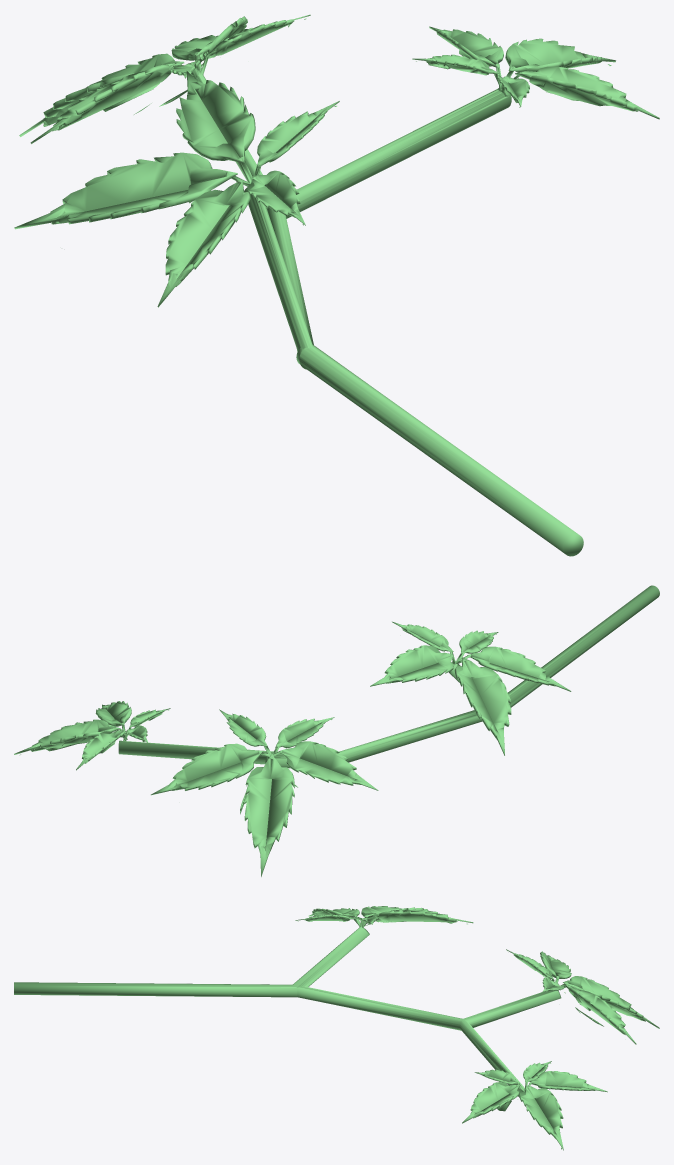
The model's file is virginia creeper.fbx.
3 renders of one model, top to bottom at view 1: azimuth 30°, elevation 25°; view 2: azimuth 150°, elevation 25°; view 3: azimuth 270°, elevation 25°, orthographic. The views are drawn at different scales.
Parts seen in each view (by area): view 1: obj_0; view 2: obj_0; view 3: obj_0.
Boxes of the visible parts, box(x1,y1,x2,y2) form: obj_0: box(14, 14, 659, 556); obj_0: box(14, 585, 659, 876); obj_0: box(14, 906, 659, 1150).
Size of the model in its own units: 6879 by 2040 by 10134.
